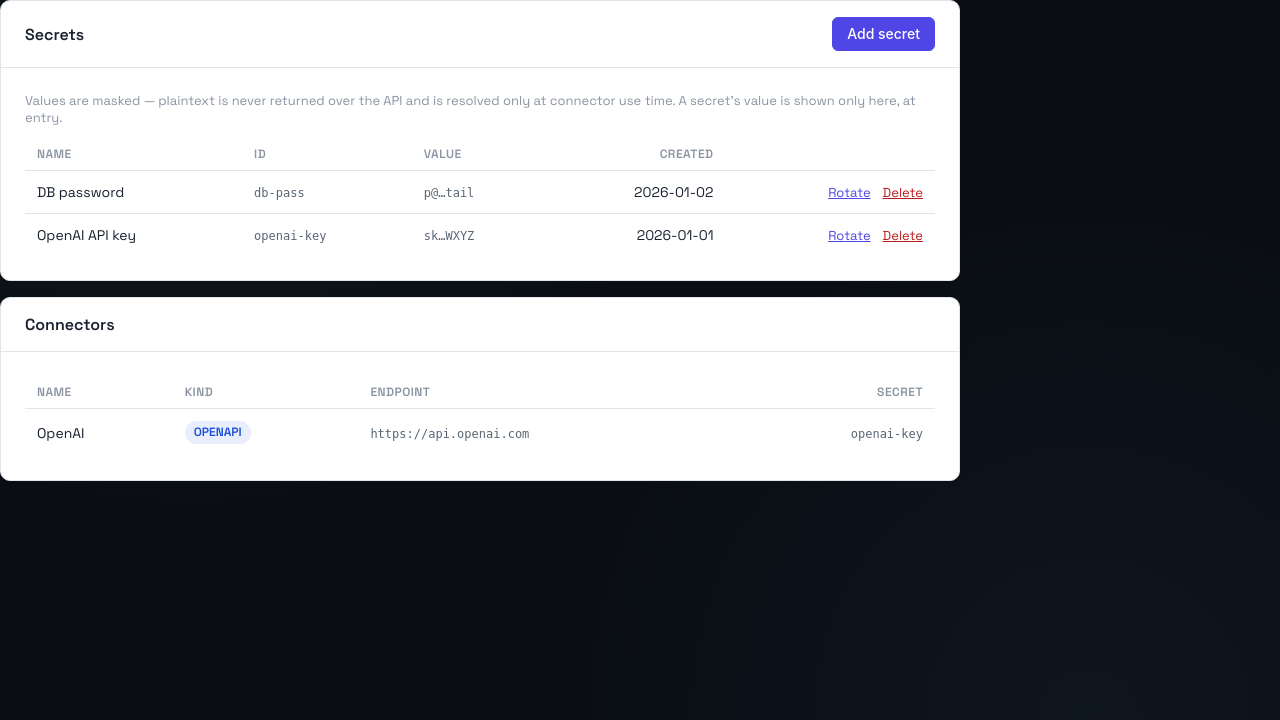
SecretsScreen write-path (S115) › keeps the create button disabled until id, name and value are all filled
Click the button with test id "secret-add-open".
click(884, 34)  # box x1=832 y1=17 x2=935 y2=51
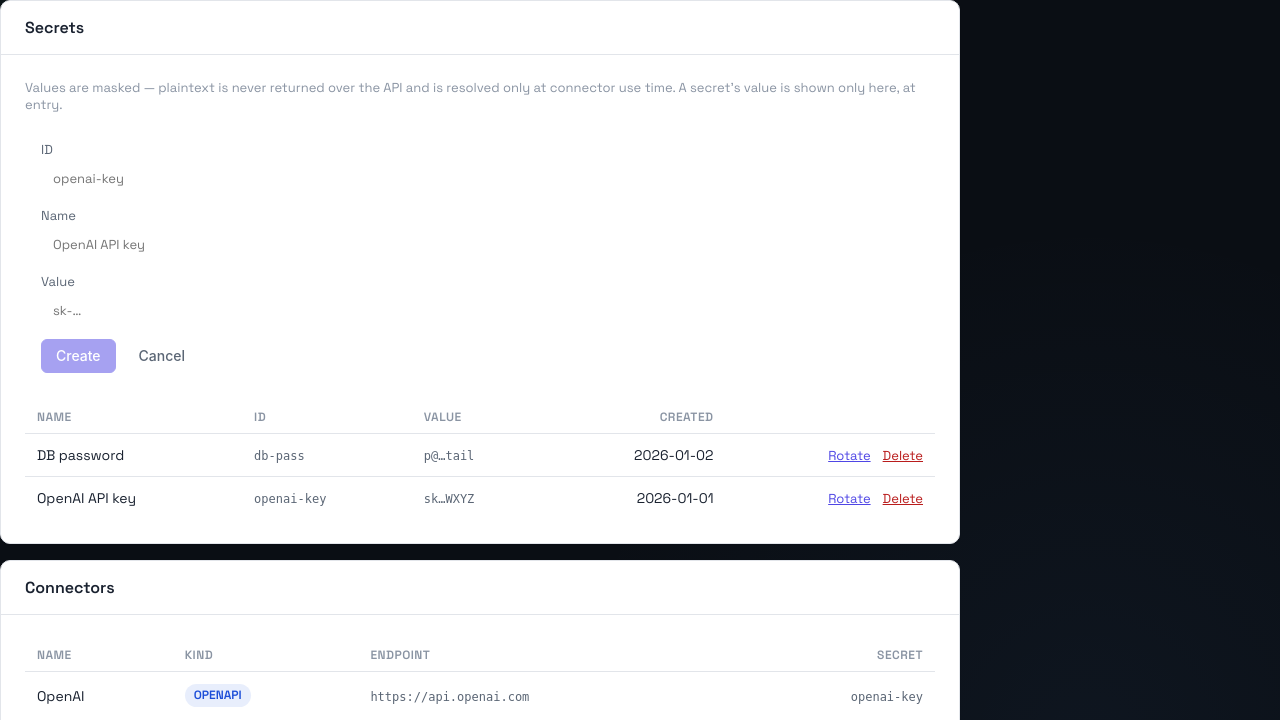
Check: the button with test id "secret-add-submit" is disabled, box x1=41 y1=339 x2=116 y2=373
Type "k" into the field with test id "secret-add-id".
click(480, 178); type("k")  # box x1=41 y1=162 x2=919 y2=195
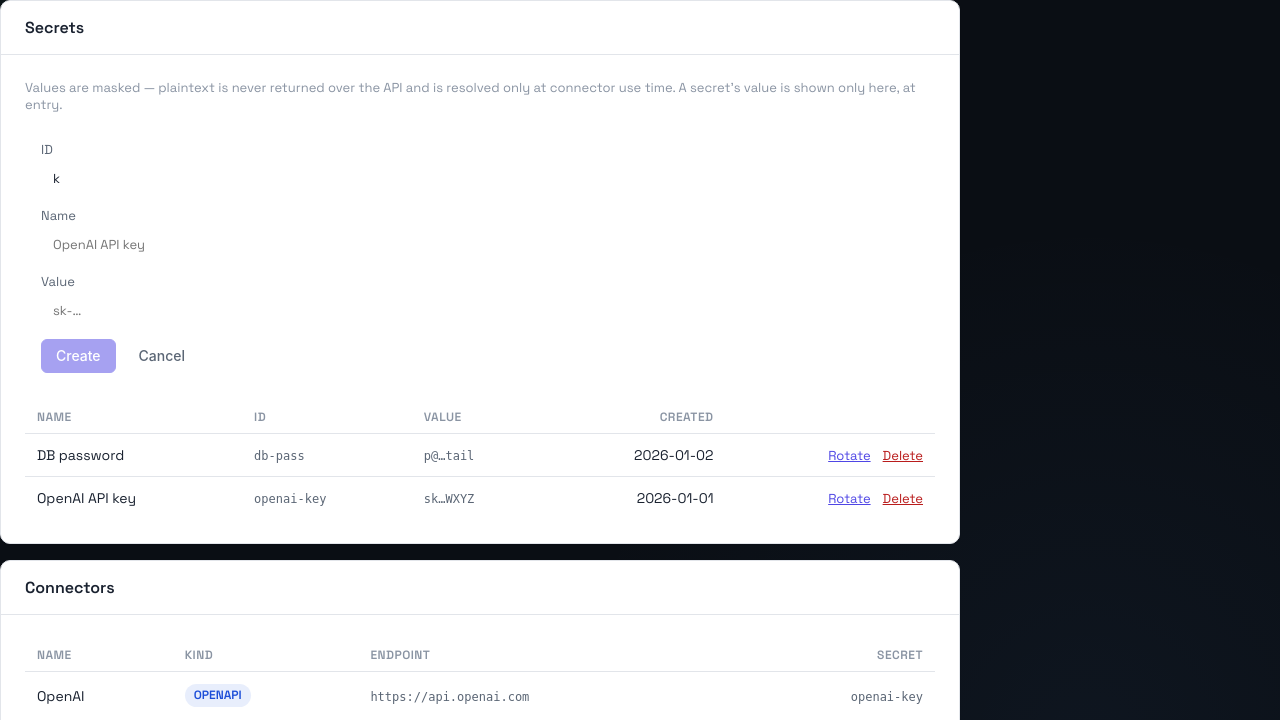
Type "K" into the field with test id "secret-add-name".
click(480, 244); type("K")  # box x1=41 y1=228 x2=919 y2=261
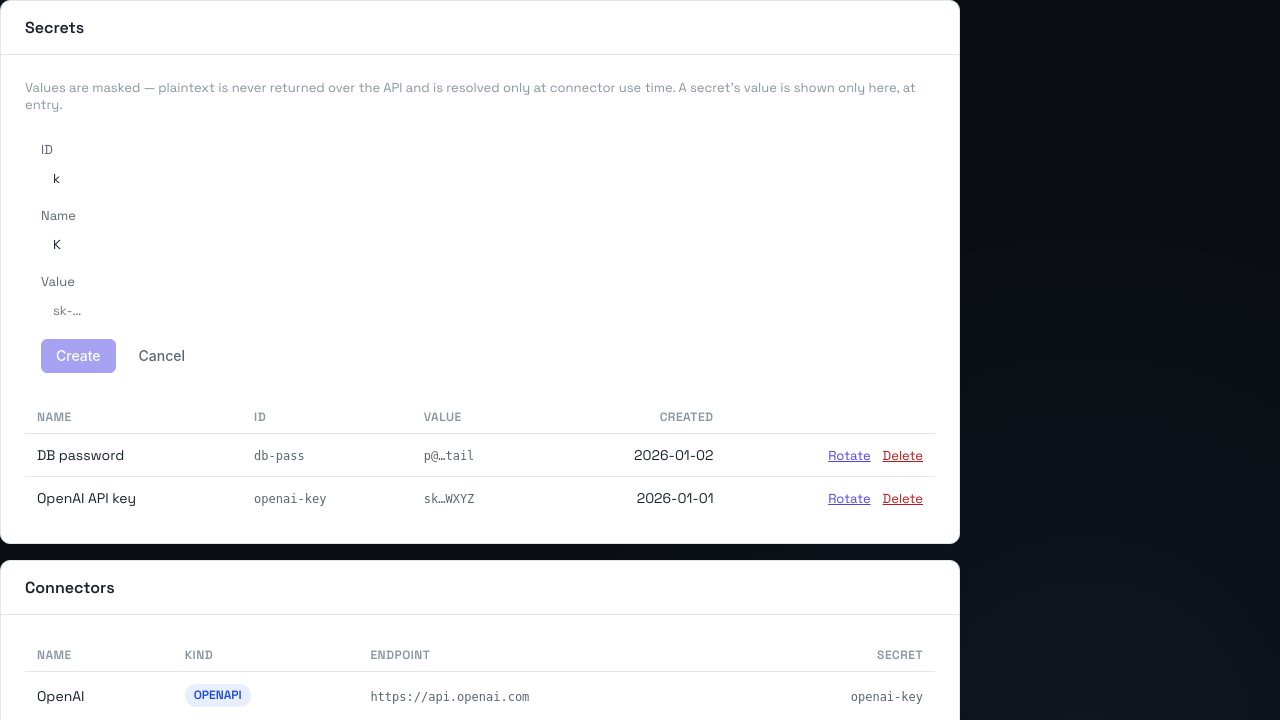
Check: the button with test id "secret-add-submit" is disabled, box x1=41 y1=339 x2=116 y2=373
Type "v" into the password field with test id "secret-add-value".
click(480, 310); type("v")  # box x1=41 y1=294 x2=919 y2=327
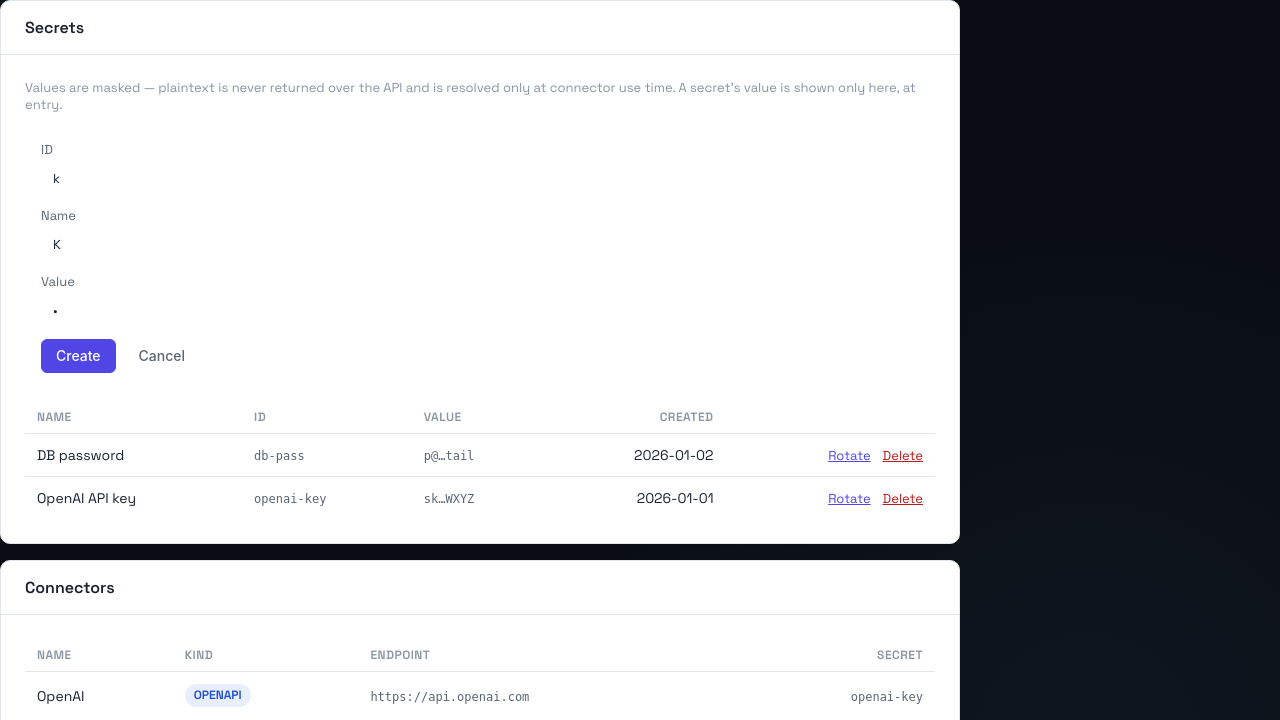
Check: the button with test id "secret-add-submit" is enabled, box x1=41 y1=339 x2=116 y2=373
